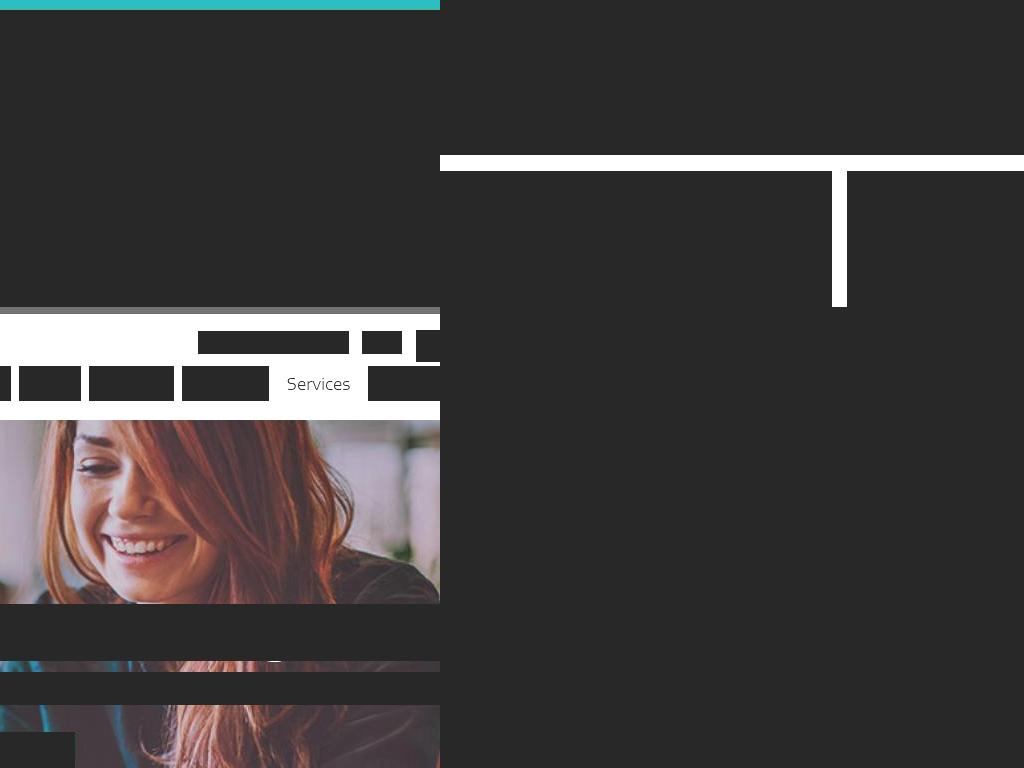button: (440, 171, 832, 307), (440, 506, 645, 712), (644, 608, 894, 712), (644, 506, 894, 609), (0, 12, 440, 67), (0, 67, 440, 122), (0, 122, 440, 177), (0, 177, 440, 232), (0, 232, 440, 287), (847, 171, 1024, 307), (0, 10, 440, 64), (893, 608, 1024, 712), (893, 506, 1024, 609), (90, 270, 330, 307), (692, 455, 797, 498), (508, 455, 606, 498), (606, 455, 693, 498), (340, 270, 440, 307), (871, 283, 1024, 307), (198, 331, 349, 354), (182, 366, 269, 401), (89, 366, 174, 401), (0, 270, 80, 307), (441, 455, 509, 498), (277, 366, 360, 401), (0, 732, 75, 768), (368, 366, 440, 401), (19, 366, 81, 401), (871, 267, 1024, 280), (570, 307, 676, 317), (469, 307, 571, 317), (362, 331, 402, 354), (416, 331, 440, 362)
heading: (0, 604, 440, 661), (174, 161, 426, 193), (871, 283, 1024, 307), (868, 763, 1024, 768), (447, 763, 549, 768), (737, 764, 837, 768)
iframe: (440, 0, 1024, 155)
image: (440, 307, 1024, 768), (440, 454, 1024, 768), (440, 171, 830, 307), (440, 506, 645, 712), (644, 608, 894, 712), (644, 506, 894, 609), (847, 171, 1024, 307), (0, 124, 145, 231), (893, 608, 1024, 712), (893, 506, 1024, 609), (416, 330, 440, 355), (37, 280, 60, 304), (287, 282, 310, 306)
link: (648, 651, 879, 708), (477, 432, 812, 458), (897, 651, 1024, 708), (871, 267, 1024, 280)
text: (440, 330, 1024, 423), (645, 318, 1024, 435), (0, 672, 440, 705), (648, 548, 879, 605), (897, 548, 1024, 605), (440, 676, 625, 708), (508, 449, 597, 500), (441, 449, 498, 500), (360, 283, 440, 306), (192, 372, 259, 395), (110, 283, 176, 306), (99, 372, 164, 395), (161, 141, 259, 156), (287, 372, 350, 395), (378, 372, 440, 395), (606, 454, 683, 470), (0, 749, 60, 768), (29, 372, 71, 395), (193, 196, 227, 211)
